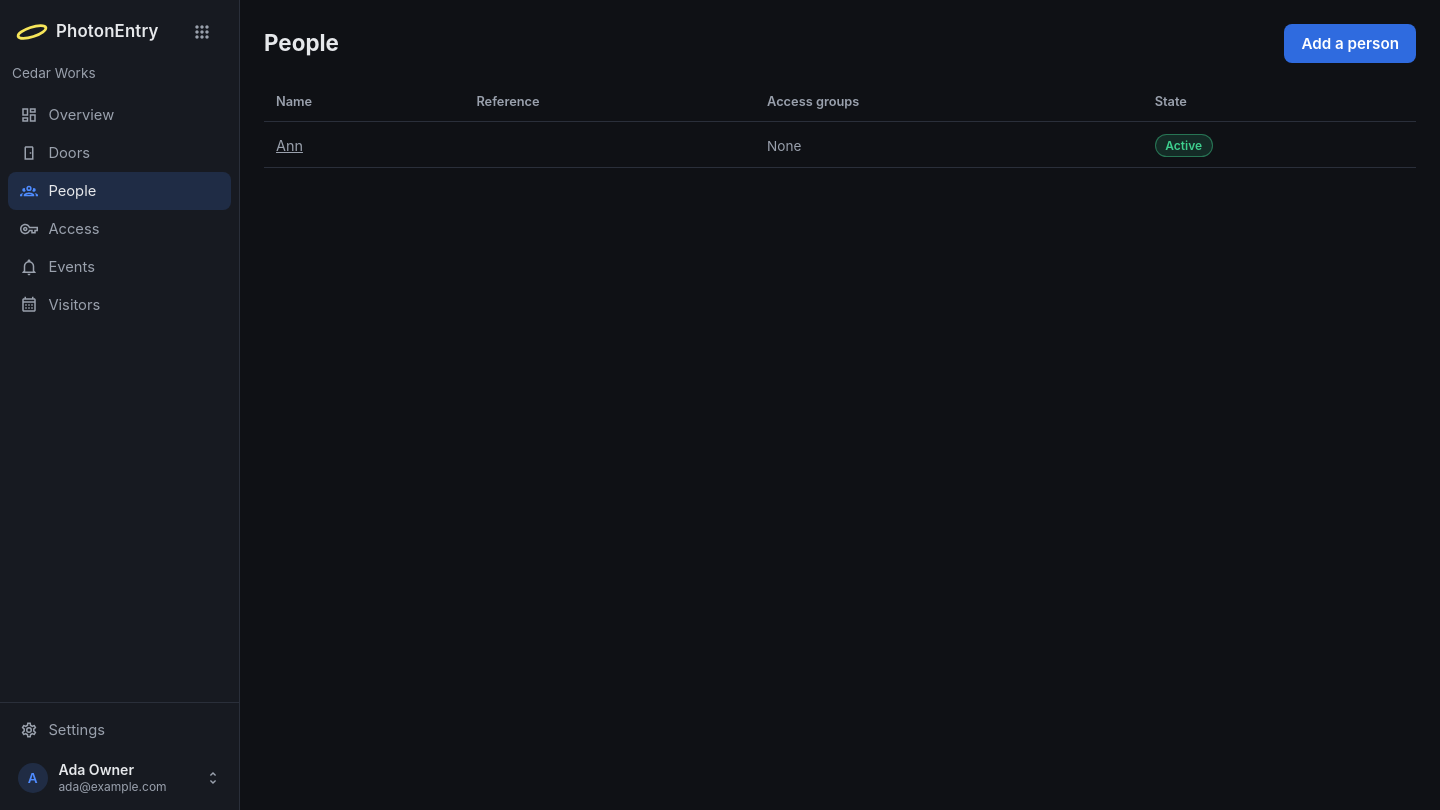
Test case: people, changed › a card number already held is refused with the reason
Click the button "Ann" at (289, 145), box [276,136,303,154]
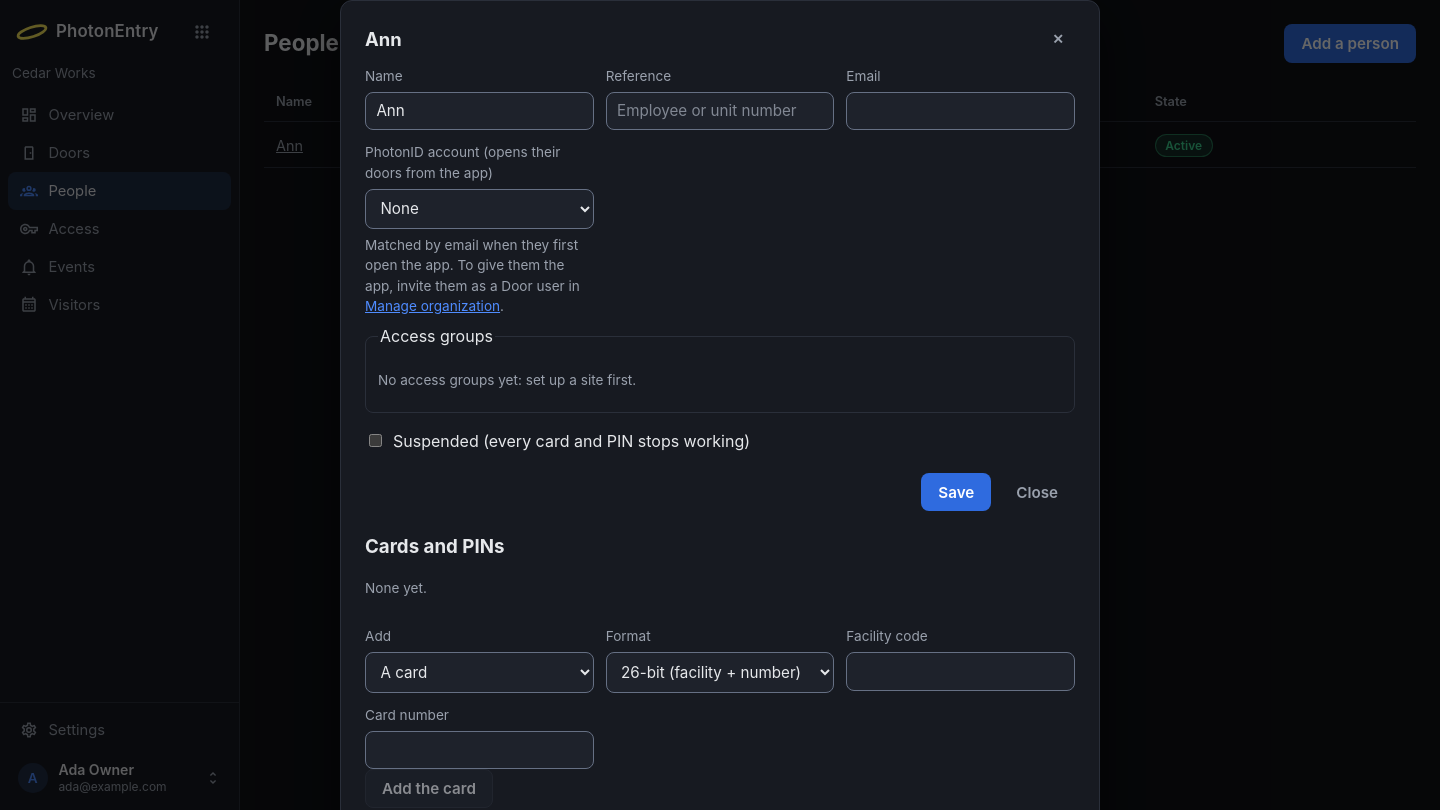
Type "7" into the field labelled "Facility code" at (961, 671), box [846,652,1075,690]
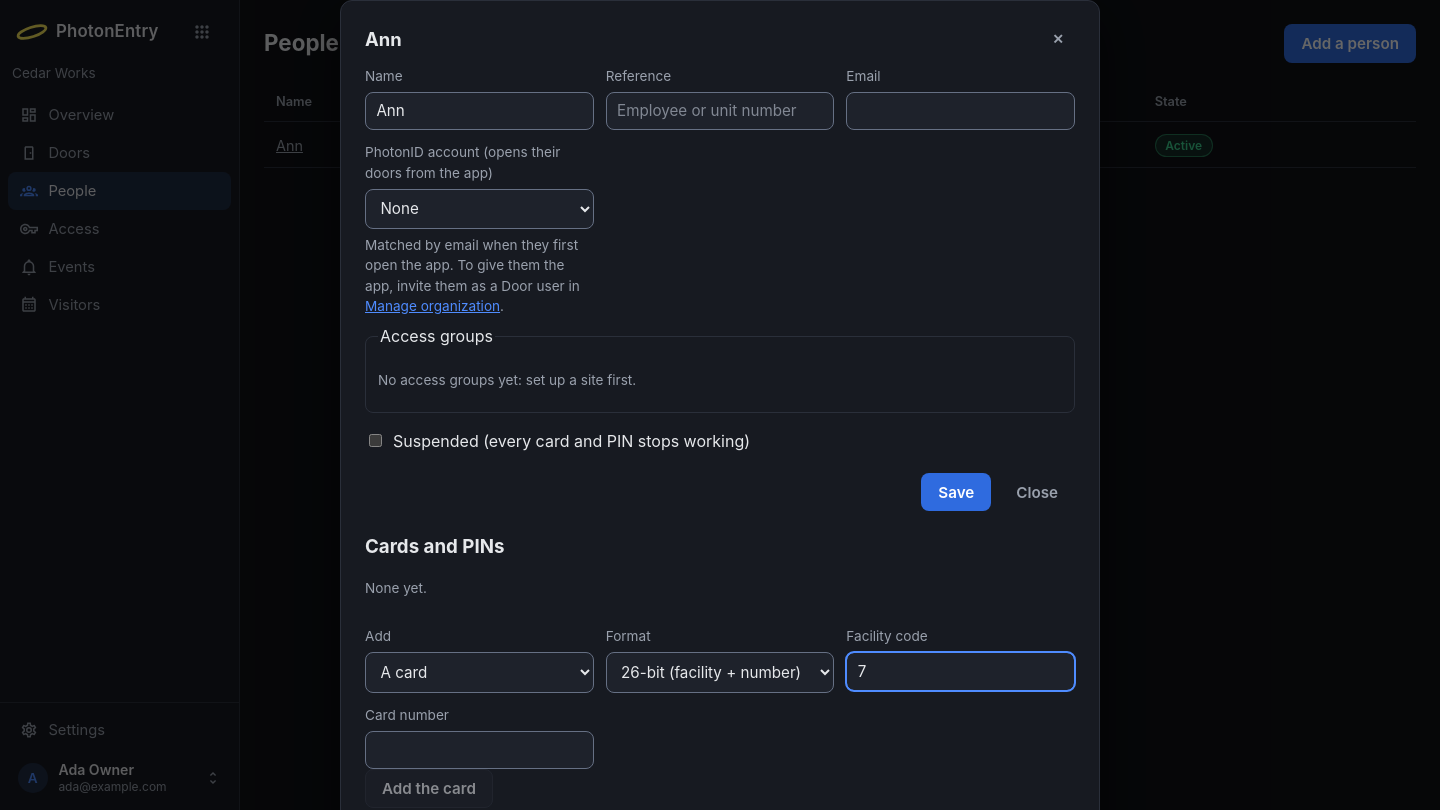
Type "10213" into the field labelled "Card number" at (479, 750), box [365,730,594,769]
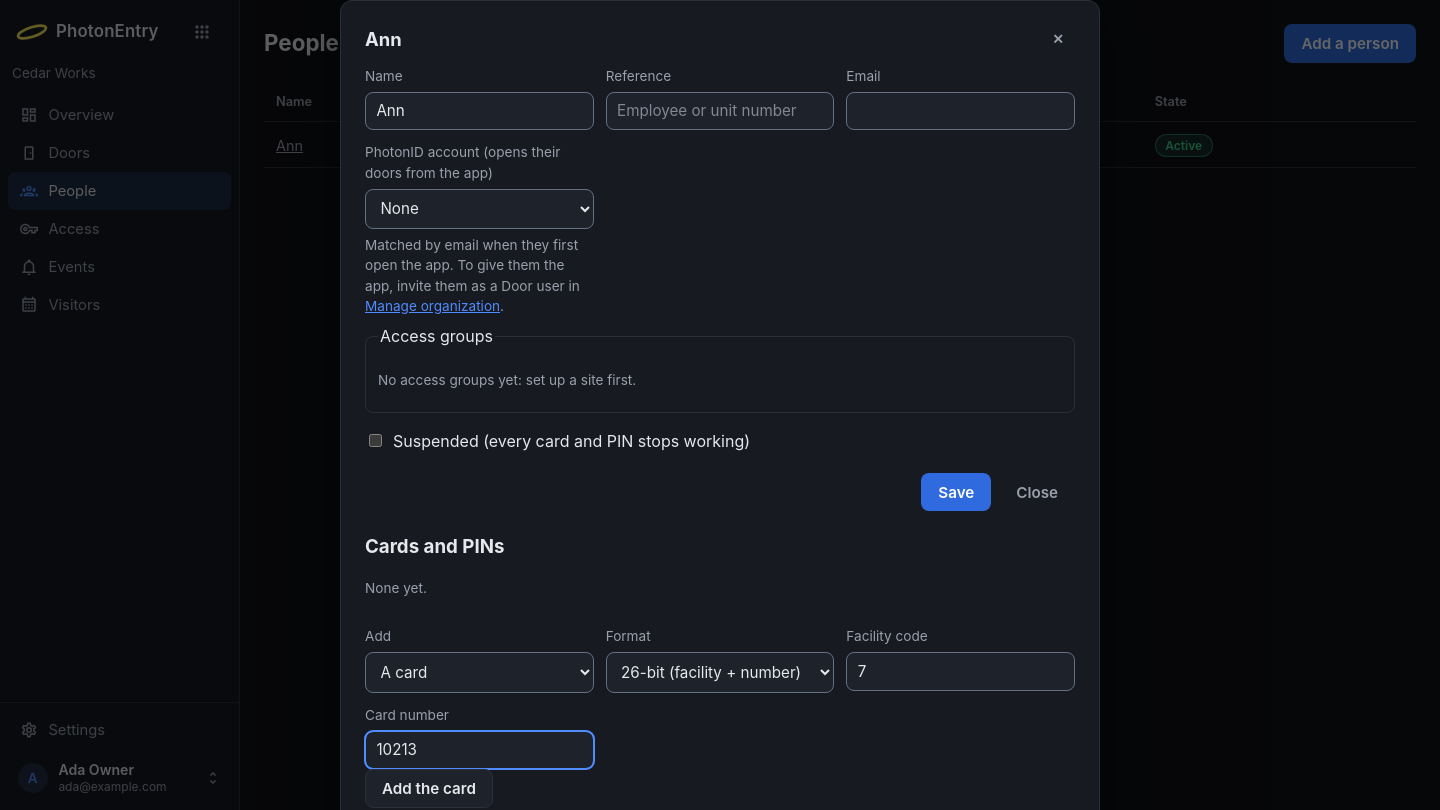
Click the button "Add the card" at (429, 788), box [365,769,493,808]
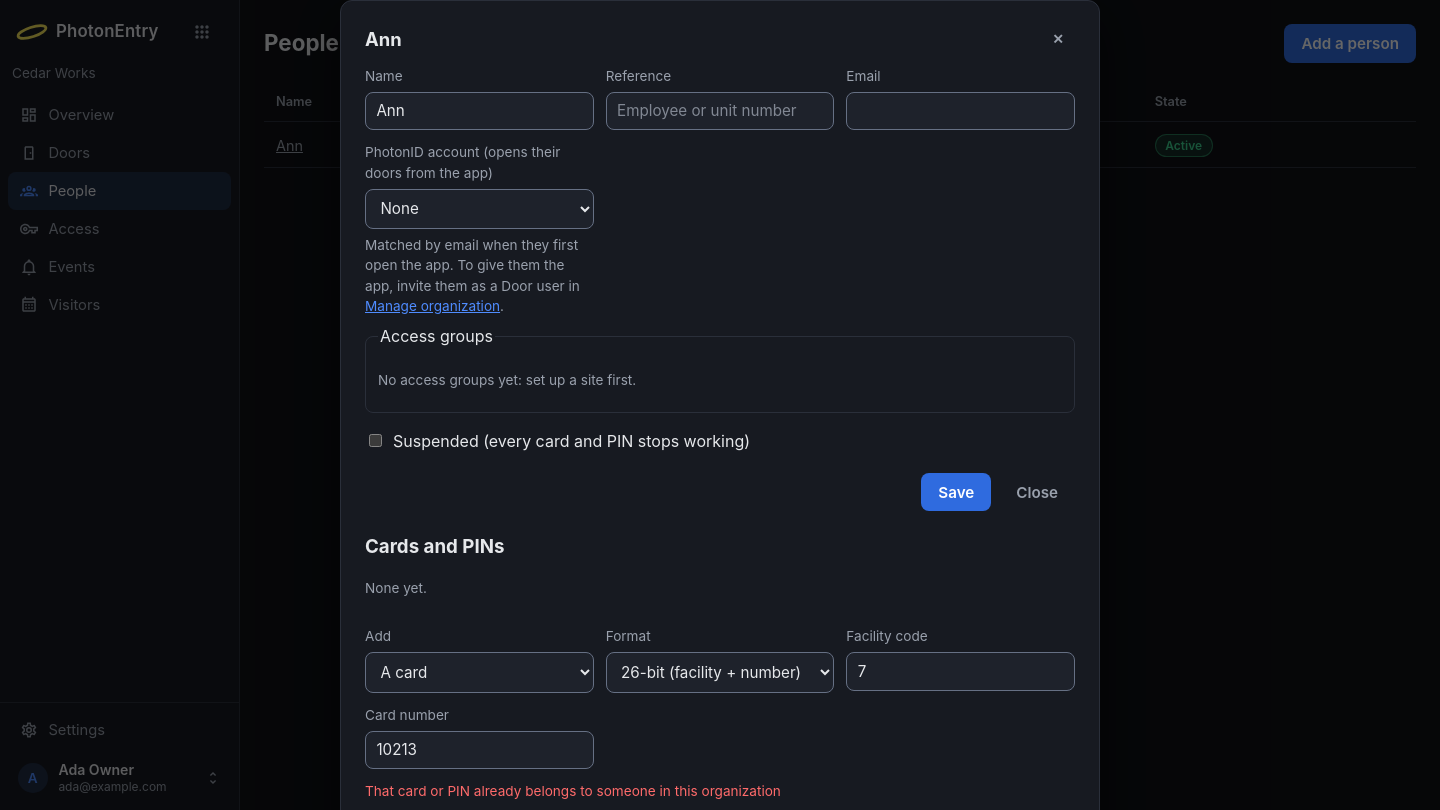
Now the text "No access groups yet: set up a site first." is shown, box [378,372,636,388]
Now the text "That card or PIN already belongs to someone in this organization" is shown, box [365,783,781,799]
